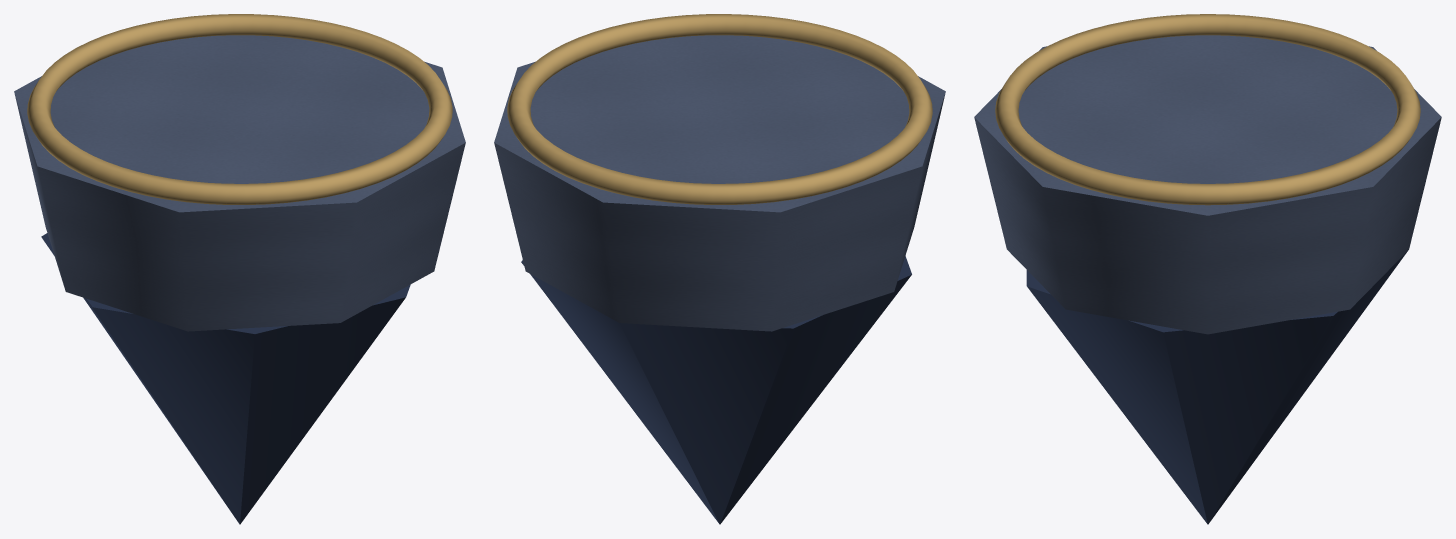
File: stepping-stone.glb
The picture shows the model from 3 angles, left to right: view 1: azimuth 30°, elevation 25°; view 2: azimuth 150°, elevation 25°; view 3: azimuth 270°, elevation 25°; orthographic projection.
Visible parts, largest first — view 1: stepping-stone_stone, stepping-stone_dark, stepping-stone_gold; view 2: stepping-stone_stone, stepping-stone_dark, stepping-stone_gold; view 3: stepping-stone_stone, stepping-stone_dark, stepping-stone_gold.
Part boxes in pixels (bbox=[...]): stepping-stone_stone: bbox=[14, 35, 465, 331]; stepping-stone_dark: bbox=[41, 233, 410, 524]; stepping-stone_gold: bbox=[27, 14, 452, 204]; stepping-stone_stone: bbox=[494, 35, 945, 331]; stepping-stone_dark: bbox=[521, 256, 911, 524]; stepping-stone_gold: bbox=[507, 14, 932, 204]; stepping-stone_stone: bbox=[974, 35, 1441, 334]; stepping-stone_dark: bbox=[1026, 250, 1408, 524]; stepping-stone_gold: bbox=[995, 14, 1420, 205].
Size of the model in its own units: 0.8 by 0.7993 by 0.8.
Materials: 3 (1 with a texture image).
